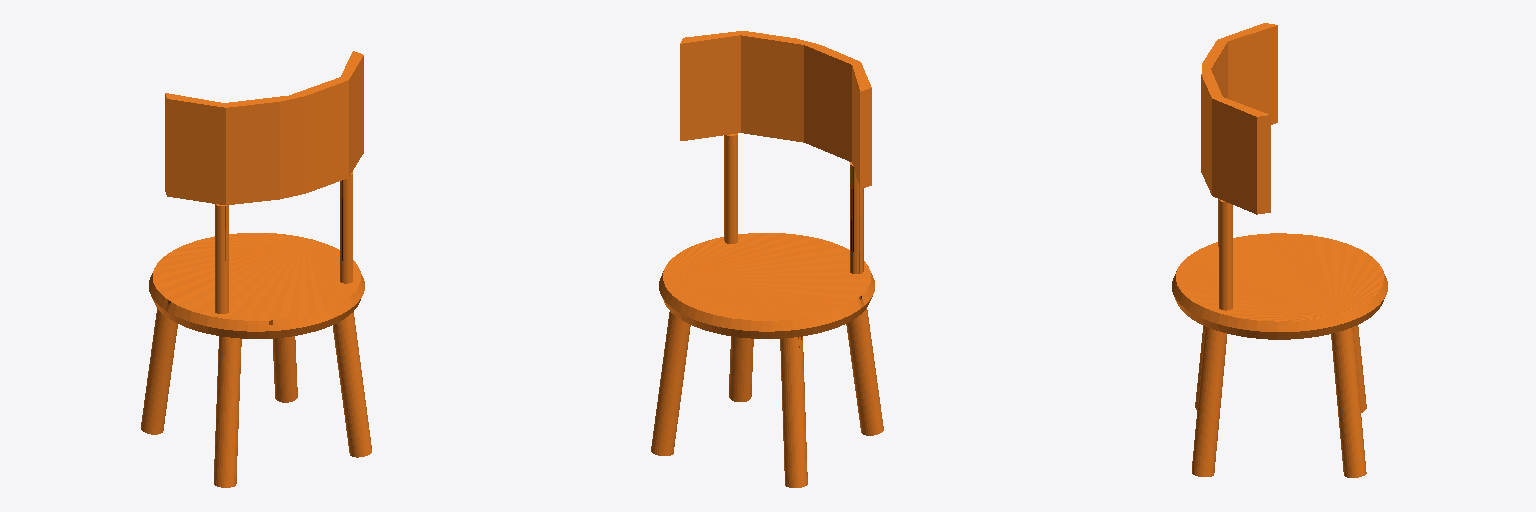
3 views of the same model, side by side, from view 1: azimuth 30°, elevation 25°; view 2: azimuth 150°, elevation 25°; view 3: azimuth 270°, elevation 25° (orthographic).
Parts seen in each view (by area): view 1: Cylinder.001_Cylinder.000; view 2: Cylinder.001_Cylinder.000; view 3: Cylinder.001_Cylinder.000.
Part boxes in pixels (x1,y1,x2,y2): Cylinder.001_Cylinder.000: (141, 51, 371, 487); Cylinder.001_Cylinder.000: (651, 31, 883, 487); Cylinder.001_Cylinder.000: (1172, 23, 1387, 477).
Bounding box in the file's own units: 2.13 × 3.93 × 2.08.
1 materials, 1 textured.